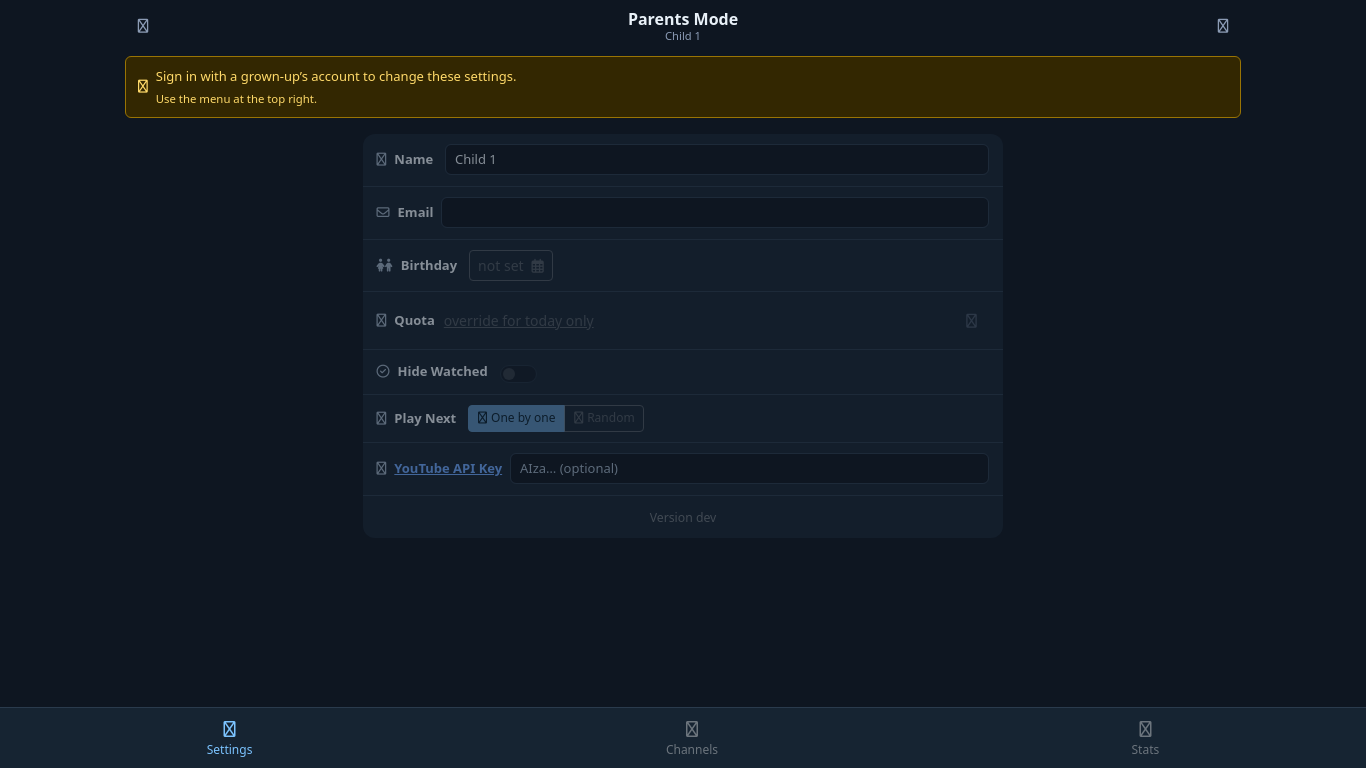
Test case: a locked Parents Mode › leaves the sign-in control live
Click the button named "More options" at (1223, 26), box [1205,8,1241,44]
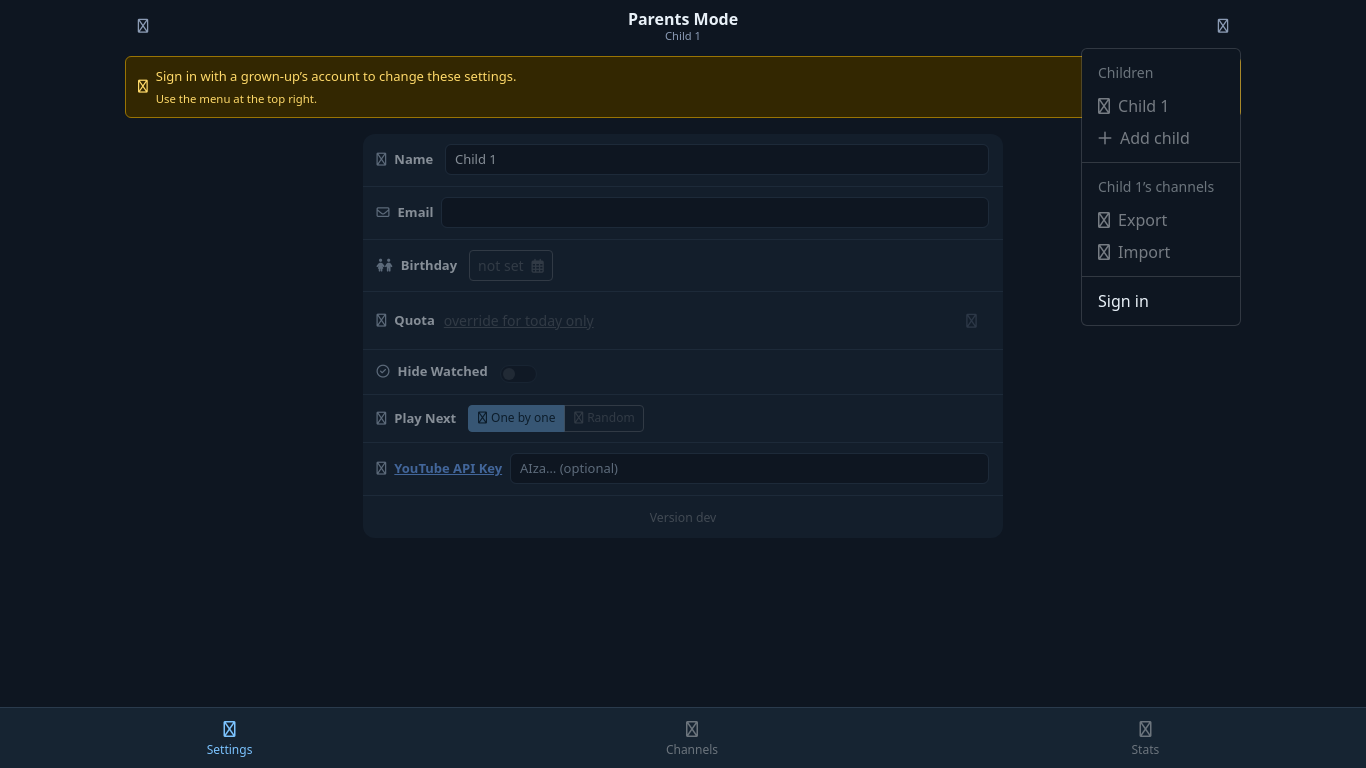
Check: the button "Sign in" is enabled, box [1082,285,1240,317]
Check: the button "Add child" is disabled, box [1082,122,1240,154]
Check: the button "Export" is disabled, box [1082,204,1240,236]
